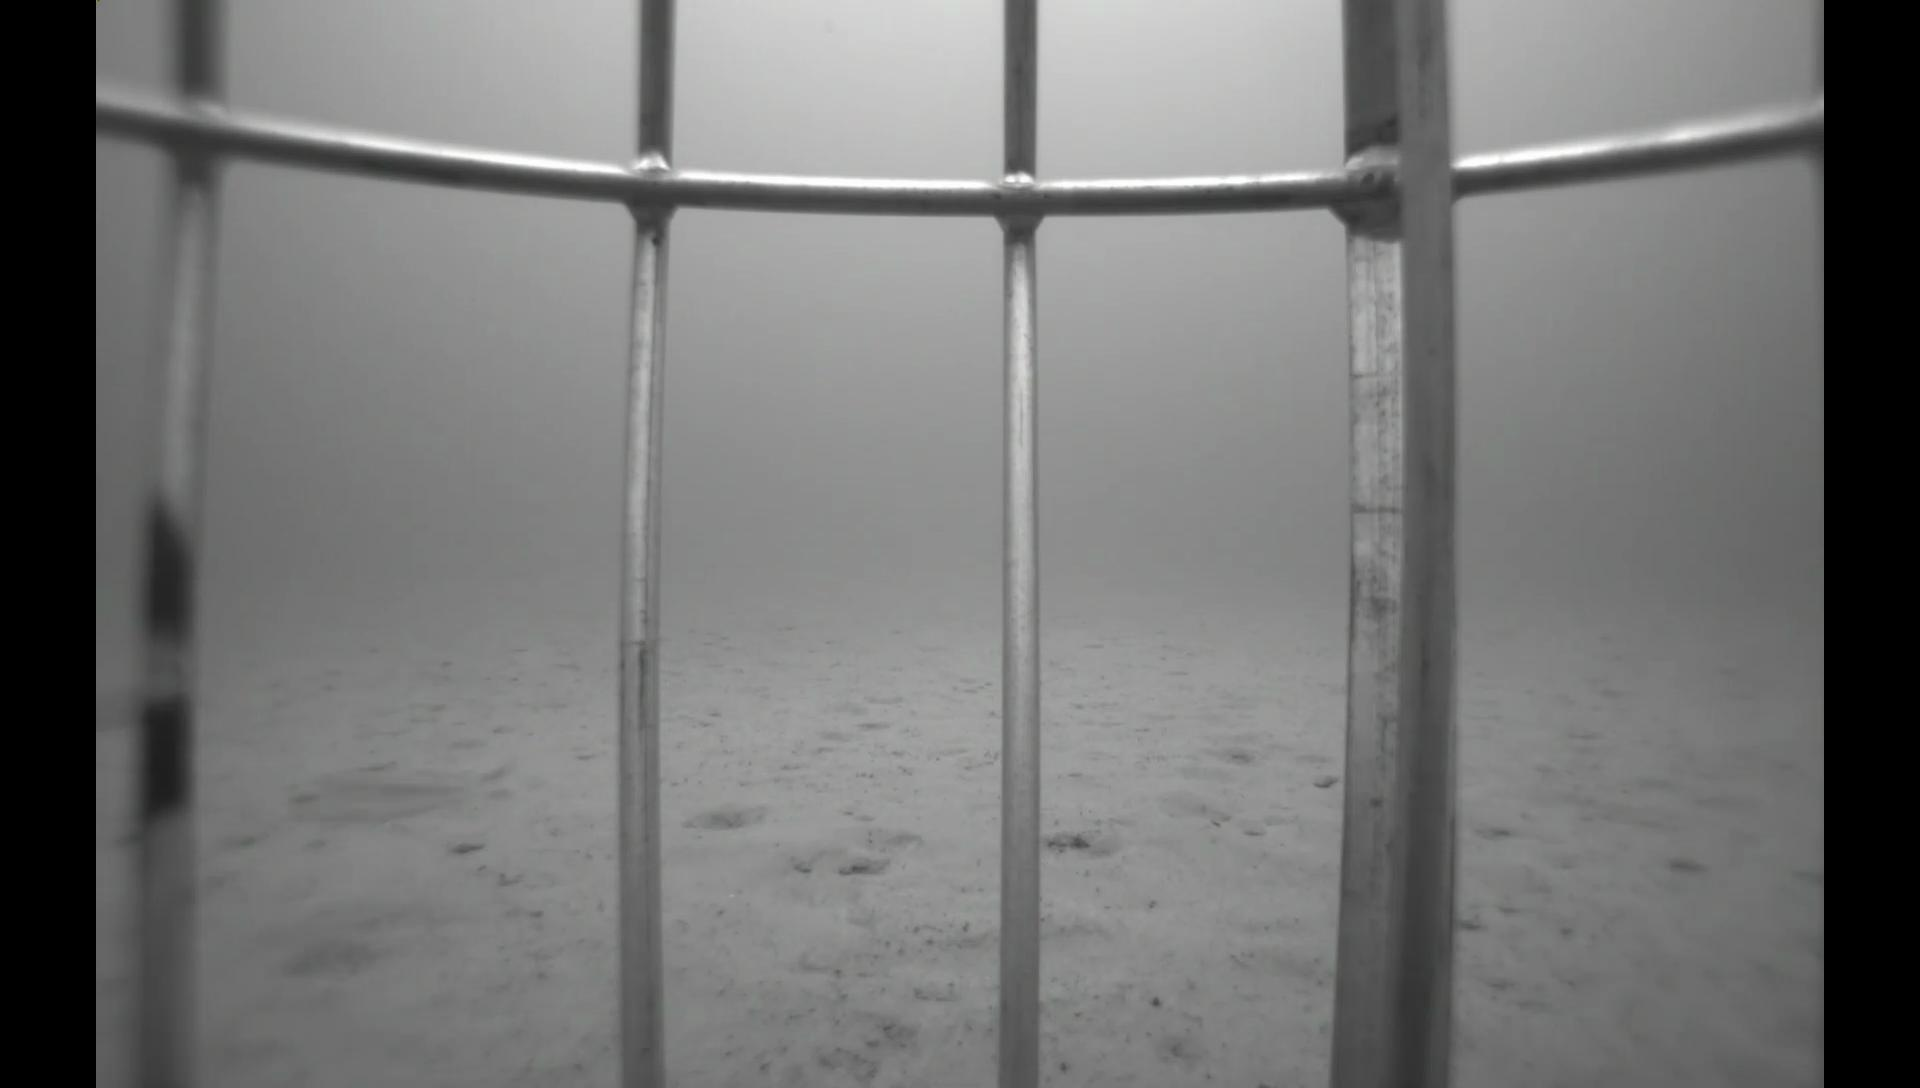CAULOLATILUSCYANOPS-170070101: (269, 749, 514, 833)
